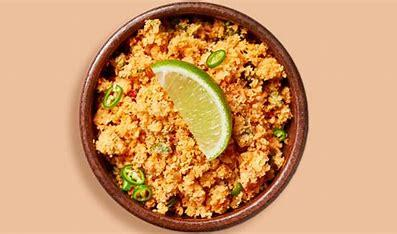Pol Sambol: (80, 18, 302, 209)
